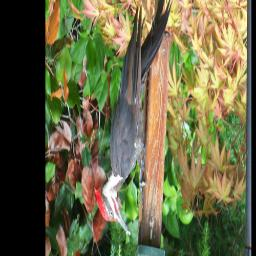Woodpecker: (94, 0, 173, 236)
